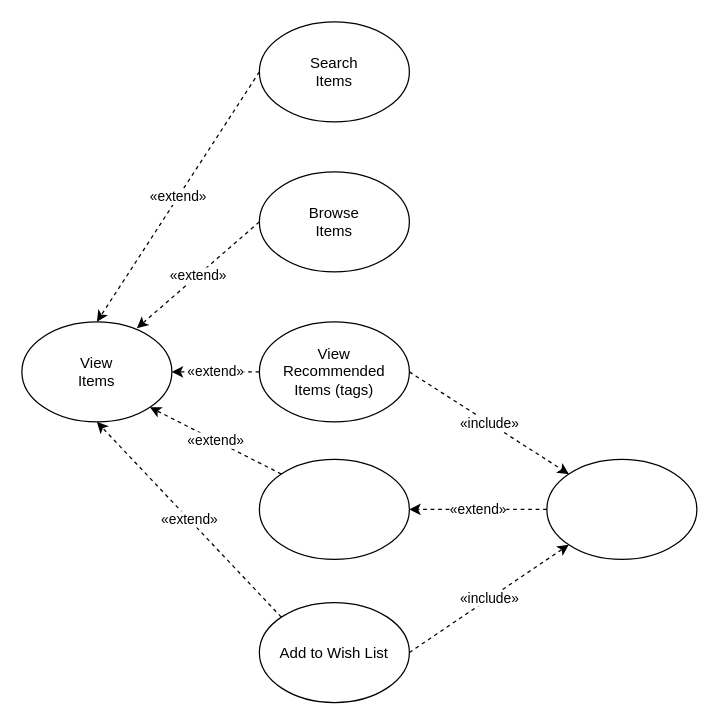
Some shapes in this 719 by 725 pixel diagram are drawn without their labels. Each missing label, with the centre of its shape:
"Add to Cart" goes at point 333,508.
"Customer Authentication" goes at point 621,508.
